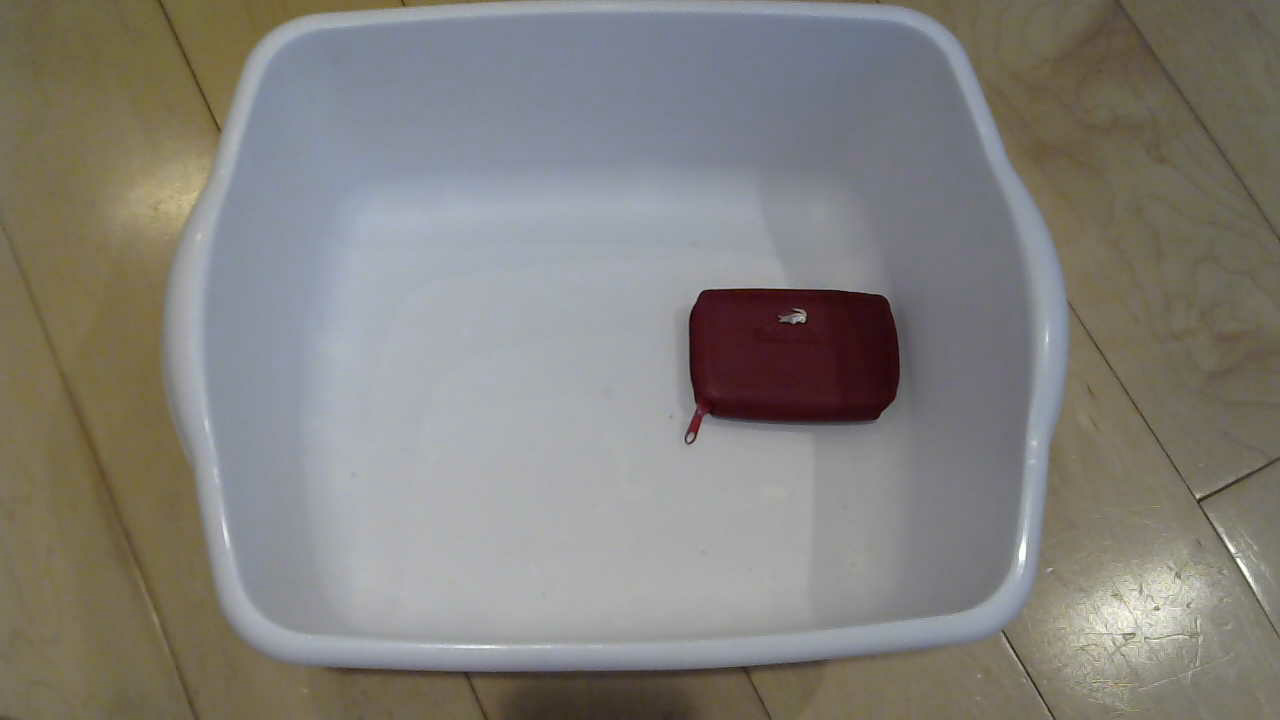wallet: (678, 275, 923, 444)
